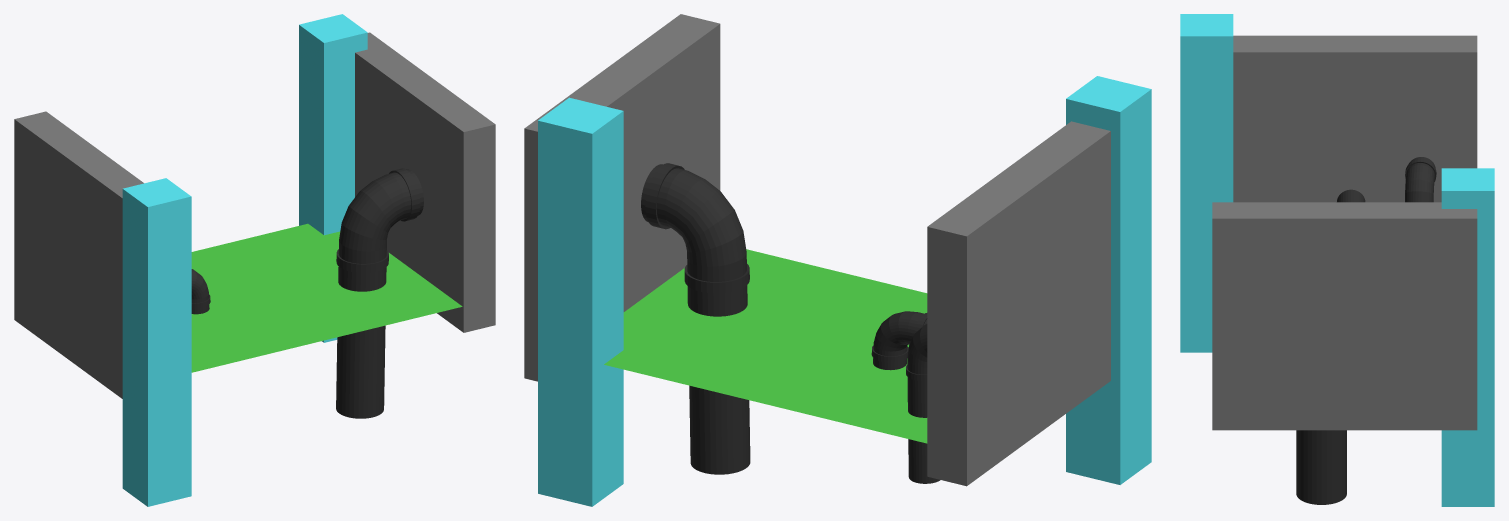
File: TrenchSegNoBeamA.fbx
3 renders of one model, left to right at view 1: azimuth 30°, elevation 25°; view 2: azimuth 150°, elevation 25°; view 3: azimuth 270°, elevation 25°, orthographic. The views are drawn at different scales.
Parts seen in each view (by area): view 1: Cube.001, Cube.002, Cube, Plane, Cube.003, Cylinder, Cylinder.002; view 2: Cube.002, Plane, Cube.003, Cube.001, Cube, Cylinder, Cylinder.003, Cylinder.002; view 3: Cube.001, Cube.002, Cube, Cube.003, Cylinder, Cylinder.003.
Part boxes in pixels (x1,y1,x2,y2): Cube.001: (355, 32, 495, 332); Cube.002: (14, 111, 143, 398); Cube: (122, 178, 191, 506); Plane: (191, 223, 462, 372); Cube.003: (299, 14, 367, 342); Cylinder: (336, 168, 423, 418); Cylinder.002: (191, 269, 210, 314); Cube.002: (927, 121, 1110, 486); Plane: (604, 249, 927, 443); Cube.003: (538, 97, 623, 506); Cube.001: (524, 14, 720, 381); Cube: (1066, 76, 1151, 484); Cylinder: (641, 163, 750, 474); Cylinder.003: (906, 324, 940, 483); Cylinder.002: (871, 311, 927, 370); Cube.001: (1212, 202, 1477, 430); Cube.002: (1233, 35, 1477, 202); Cube: (1180, 14, 1233, 352); Cube.003: (1441, 168, 1494, 506); Cylinder: (1296, 430, 1346, 504); Cylinder.003: (1405, 157, 1436, 202).
Bounding box in the file's own units: 969 × 814 × 690.
